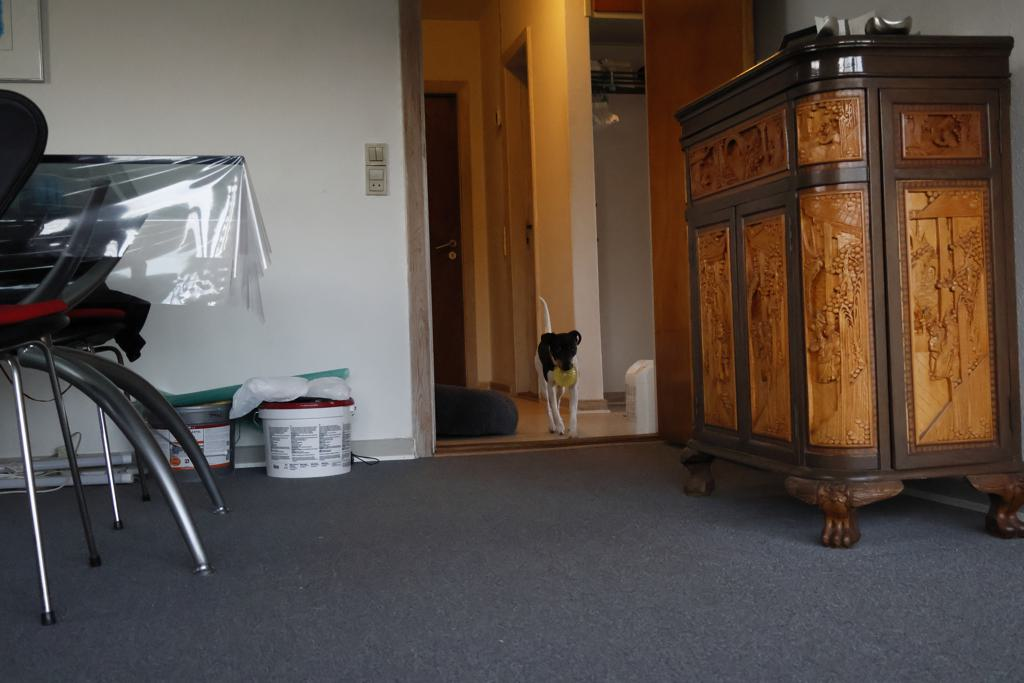Dog: (527, 292, 595, 449)
